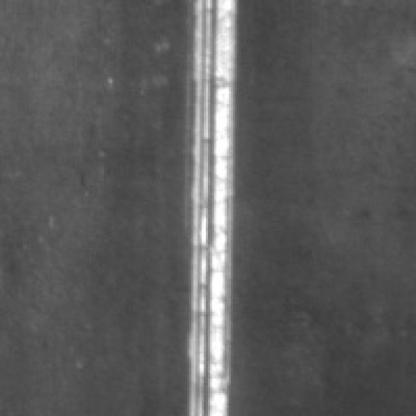scratches: (175, 0, 239, 412)
